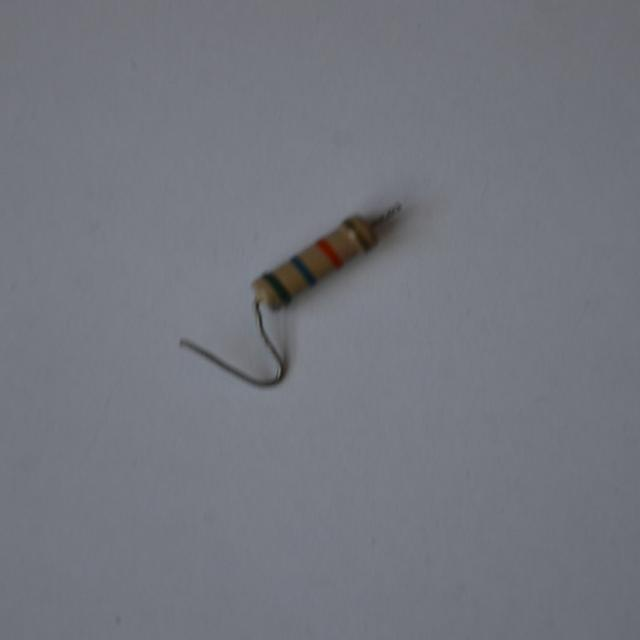blue: (291, 254, 316, 284)
gold: (344, 219, 370, 250)
green: (263, 272, 291, 304)
orange: (317, 239, 341, 266)
resistor: (239, 196, 400, 331)
